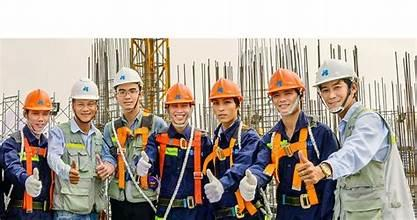Gloves: (203, 168, 224, 203), (238, 168, 257, 200), (24, 167, 42, 197), (136, 150, 151, 176), (68, 159, 80, 184)
Helmet: (311, 58, 357, 87), (266, 67, 305, 95), (208, 77, 243, 103), (164, 82, 195, 105), (112, 66, 143, 89), (22, 88, 53, 111), (70, 78, 99, 100)
Person: (296, 58, 414, 219), (238, 67, 340, 219), (136, 82, 214, 219), (100, 66, 168, 219), (46, 77, 116, 219), (201, 77, 263, 219), (0, 88, 56, 219)
Safety Vest: (339, 124, 408, 220), (272, 126, 333, 220), (215, 136, 265, 217), (9, 125, 54, 214), (58, 129, 105, 210), (110, 121, 155, 203), (155, 135, 202, 213)
bare-arms: (292, 151, 318, 188), (94, 162, 118, 180)
